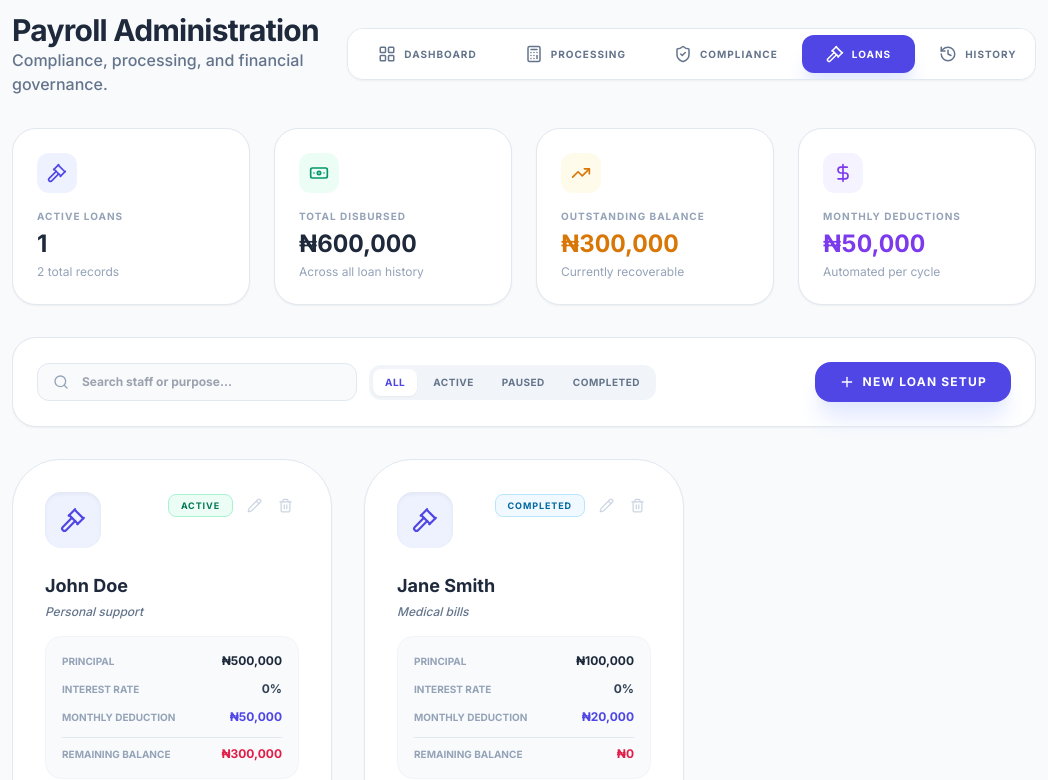
Test: Payroll Administration: Loans & Advances › filters loans by search and status filter
The width and height of the screenshot is (1048, 780).
Expected: the heading "John Doe" is shown, [45, 575, 128, 596]
Expected: the heading "Jane Smith" is shown, [397, 575, 495, 596]
Type "Jane" into the field with placeholder "Search staff or purpose…" at (197, 382), box [37, 363, 357, 401]
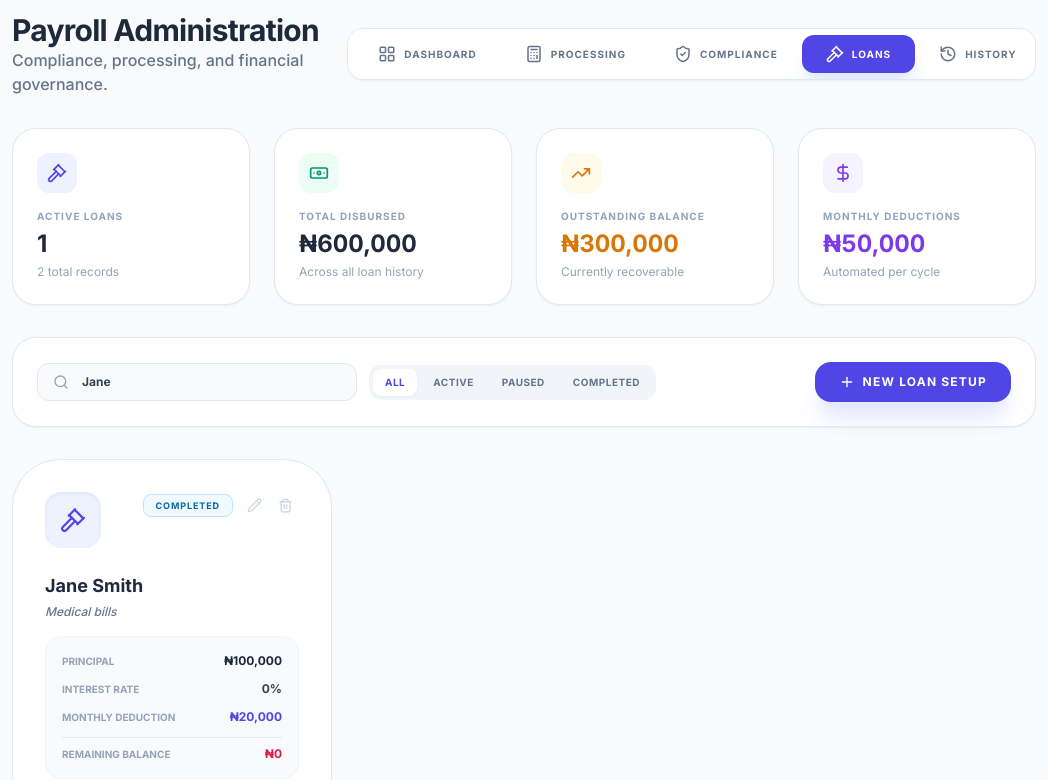
Expected: the heading "Jane Smith" is shown, [45, 575, 143, 596]
Result: the heading "John Doe" is gone
